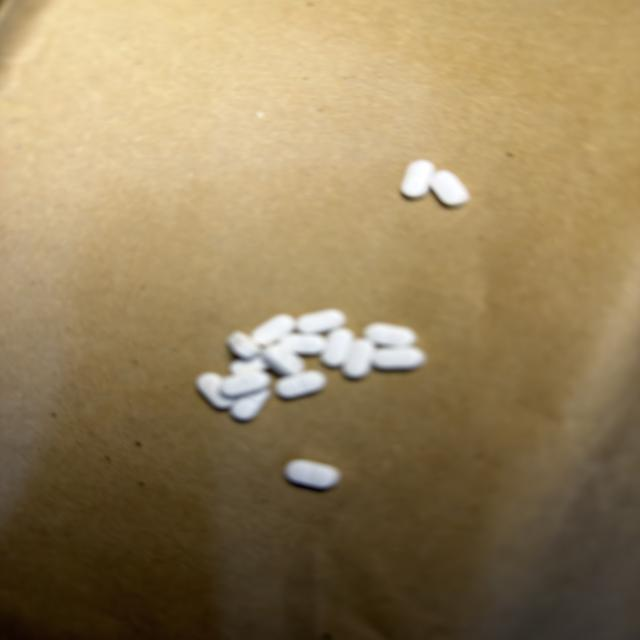pill: (284, 460, 341, 490), (276, 371, 326, 399), (252, 314, 295, 346), (196, 373, 233, 410), (230, 389, 271, 422), (431, 171, 469, 206), (263, 343, 304, 375), (401, 160, 435, 198), (222, 371, 271, 397), (343, 339, 374, 379), (321, 329, 353, 367), (364, 323, 416, 346), (374, 347, 426, 370), (297, 309, 346, 333), (282, 334, 326, 355), (227, 332, 259, 359), (229, 355, 266, 374)
